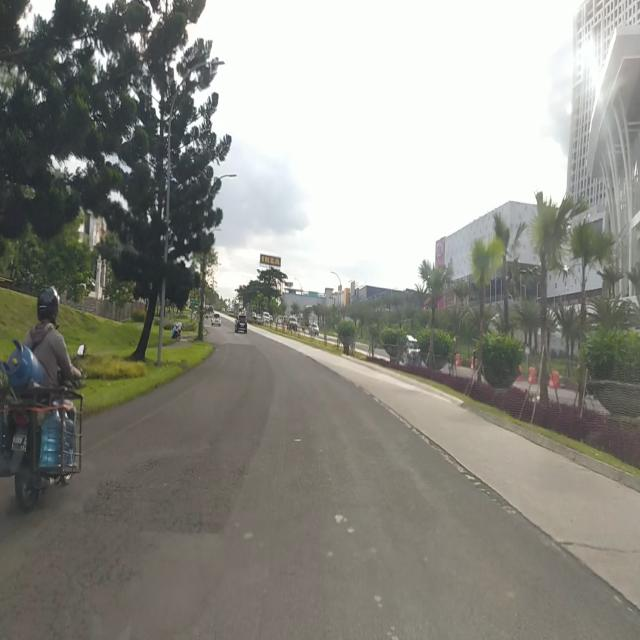Drain Hole: (0, 452, 220, 640)
